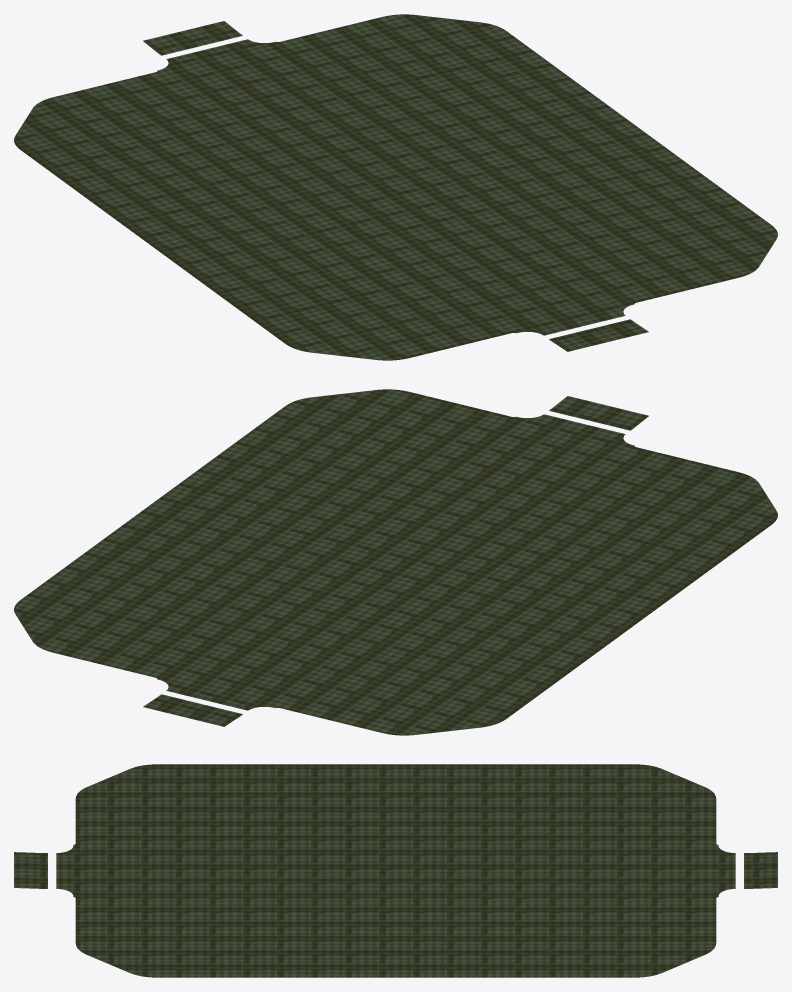
File: mannfield_grass.glb
The picture shows the model from 3 angles, top to bottom: view 1: azimuth 30°, elevation 25°; view 2: azimuth 150°, elevation 25°; view 3: azimuth 270°, elevation 25°; orthographic projection. The views are drawn at different scales.
Parts seen in each view (by area): view 1: Grass_Base; view 2: Grass_Base; view 3: Grass_Base.
Part boxes in pixels (x1=…): Grass_Base: x1=14, y1=14, x2=777, y2=360; Grass_Base: x1=14, y1=389, x2=777, y2=735; Grass_Base: x1=14, y1=764, x2=777, y2=977.
Bounding box in the file's own units: 7612 × 16.03 × 11520.
Materials: 1 (1 with a texture image).
